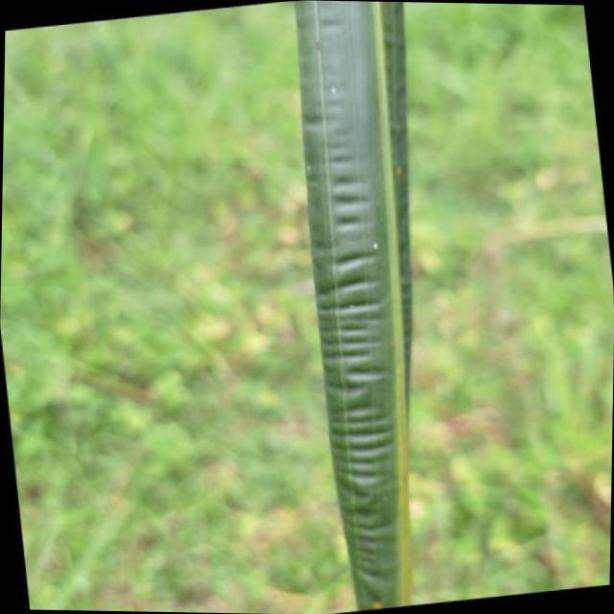Boron: (291, 0, 417, 614)
